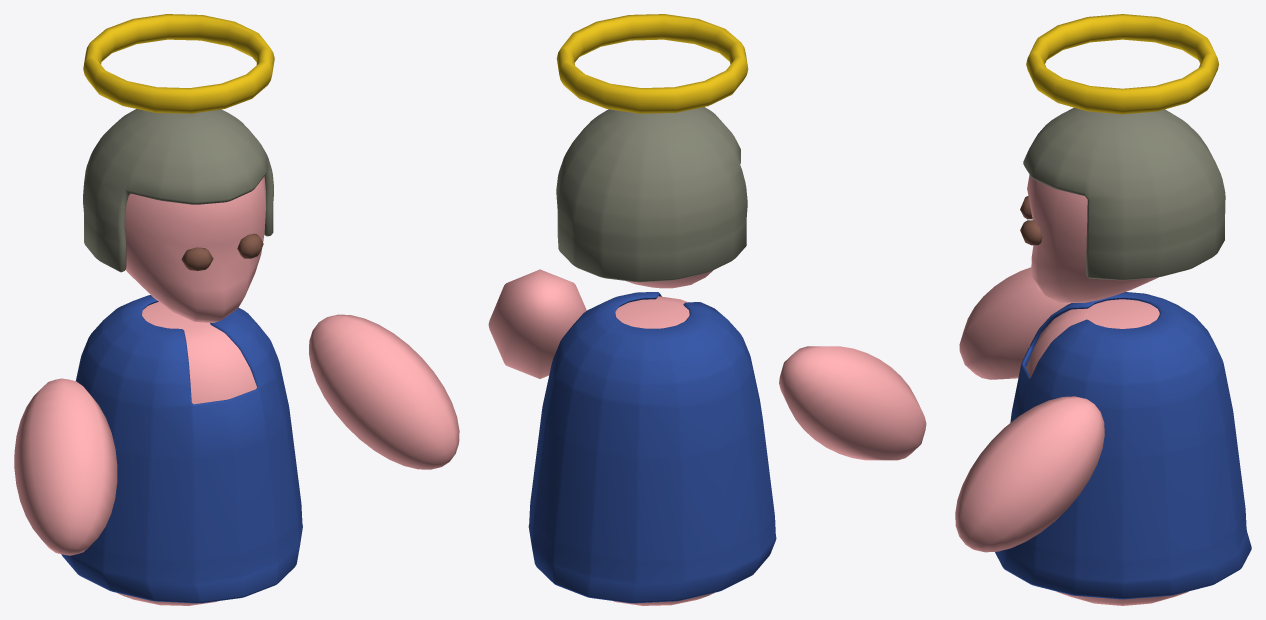
File: pedro_rip_off_2.fbx
3 renders of one model, left to right at view 1: azimuth 30°, elevation 25°; view 2: azimuth 150°, elevation 25°; view 3: azimuth 270°, elevation 25°, orthographic.
Parts seen in each view (by area): view 1: Woman, dress, hair, eyes; view 2: dress, Woman, hair; view 3: dress, Woman, hair, eyes.
Part boxes in pixels (x1,y1,x2,y2): Woman: (14,14,459,605); dress: (61,295,302,603); hair: (83,109,273,272); eyes: (181,233,263,270); dress: (528,292,776,603); Woman: (488,14,926,605); hair: (556,107,747,282); dress: (995,292,1251,599); Woman: (955,14,1218,605); hair: (1023,107,1225,280); eyes: (1020,196,1042,245).
Bounding box in the file's own units: 405 × 490 × 251.
